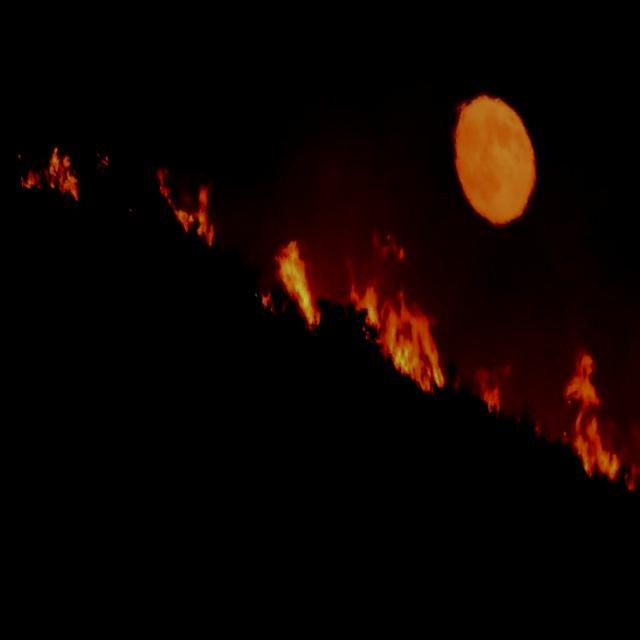Fire: (272, 220, 454, 412), (19, 133, 214, 250), (543, 349, 639, 515)
